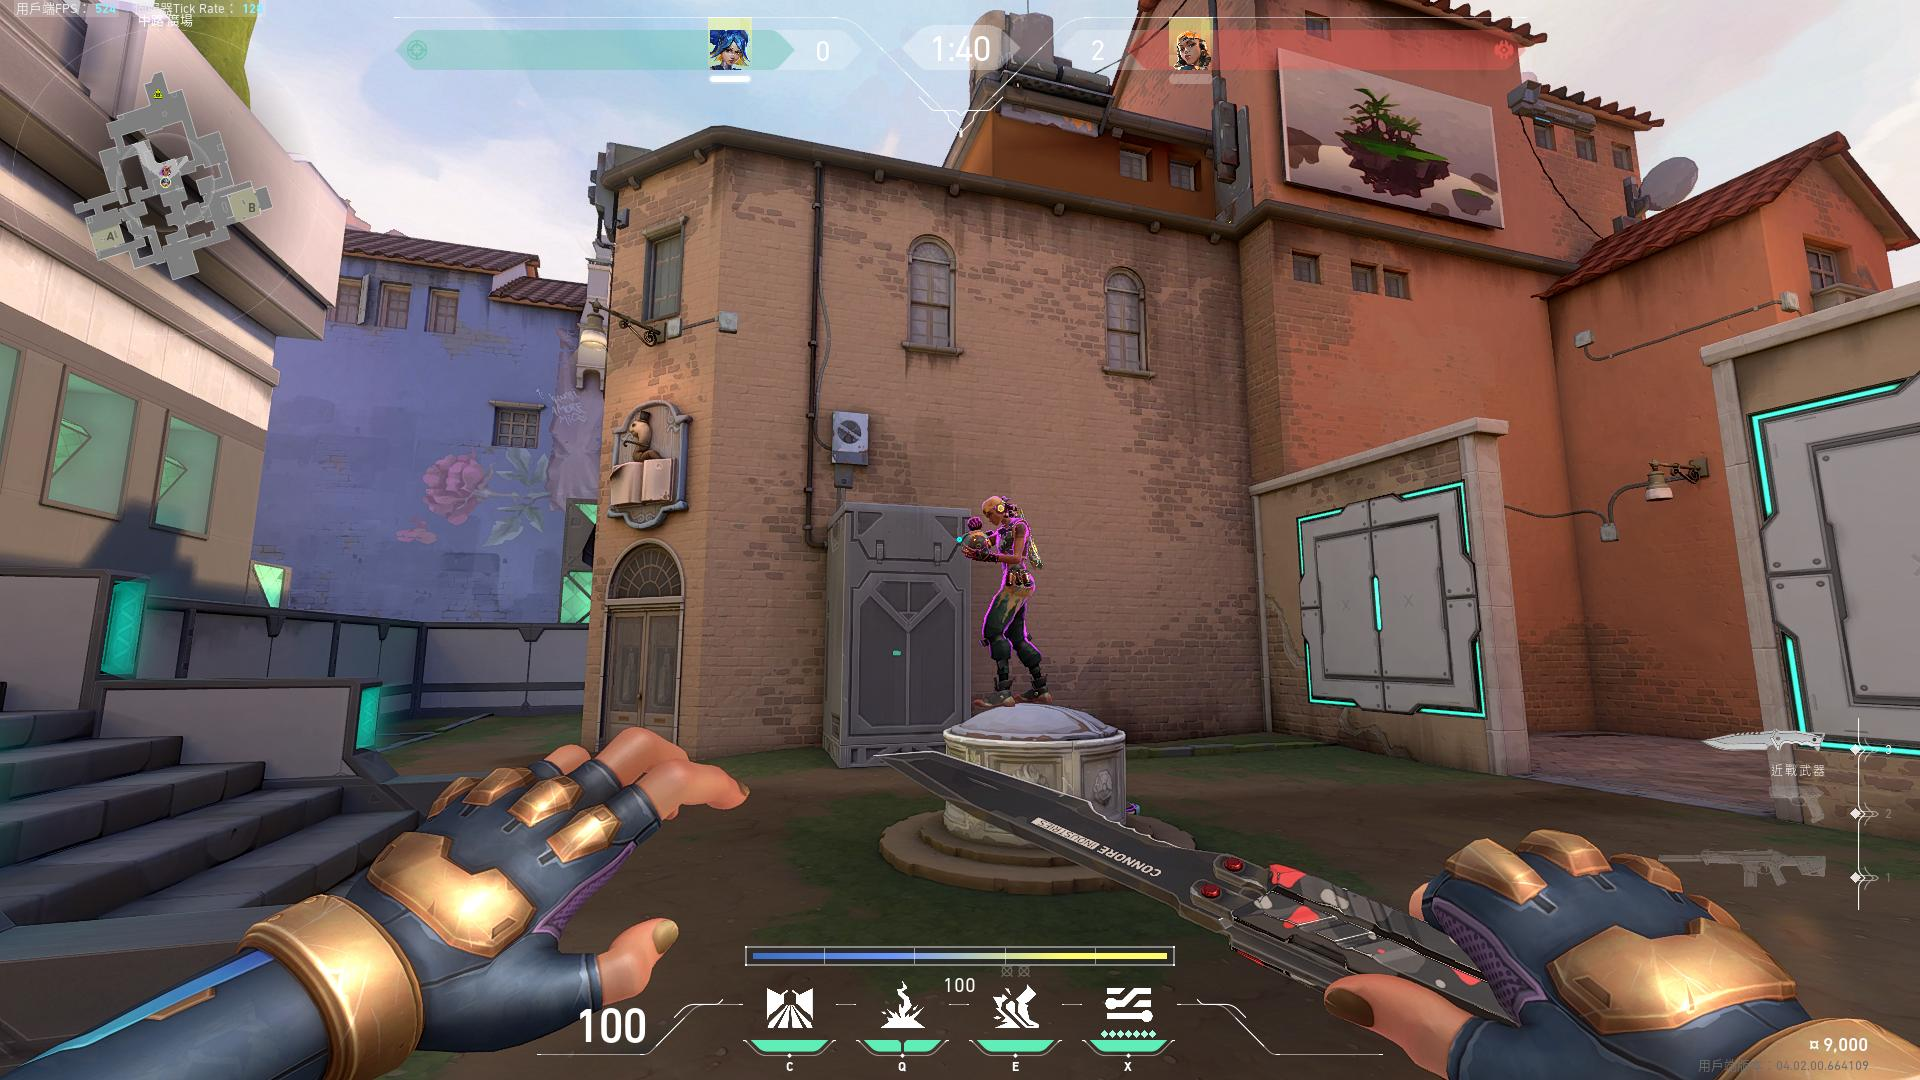enemyBody: (989, 524, 1042, 600)
enemyHead: (985, 500, 1007, 520)
